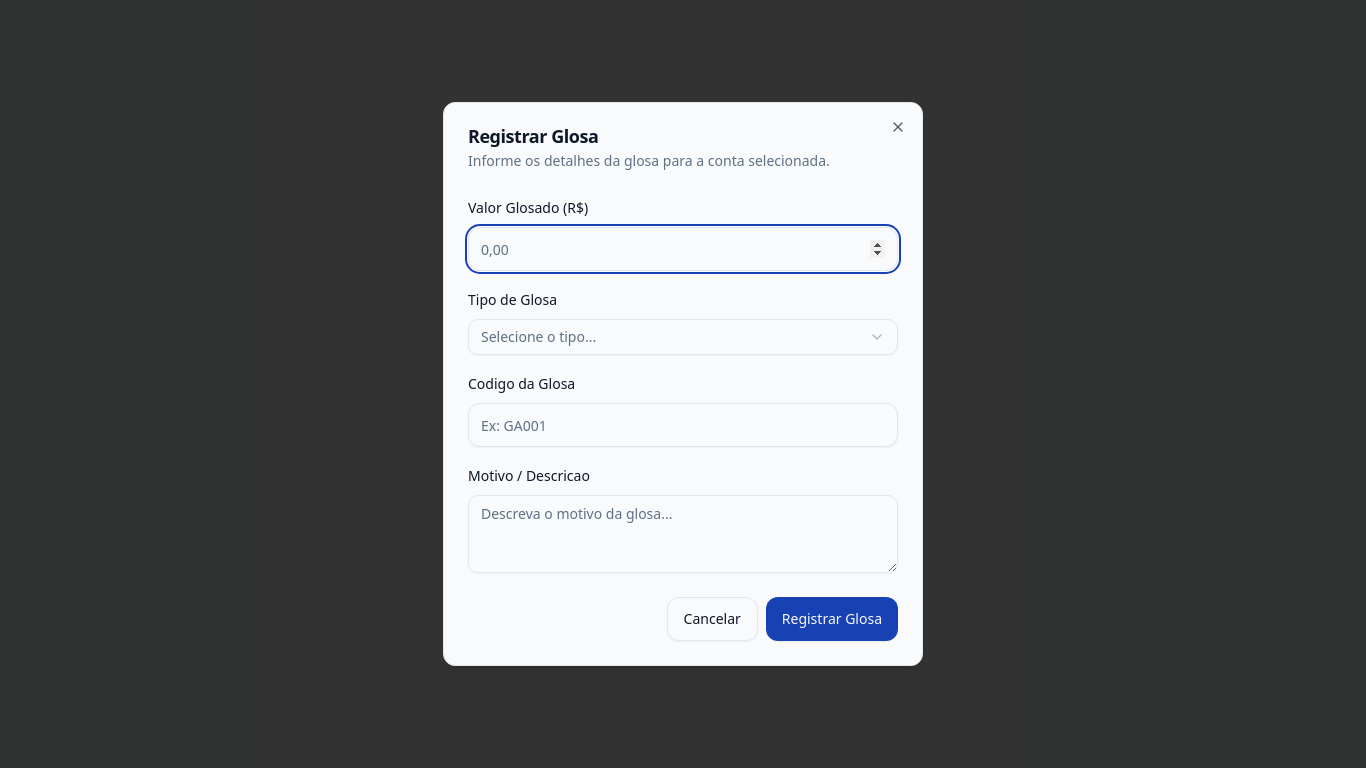
Test: CreateGlosaModal › shows error on submission failure
In the number field labelled "Valor Glosado (R$)": point(683, 249) [468, 227, 898, 271], type "100"
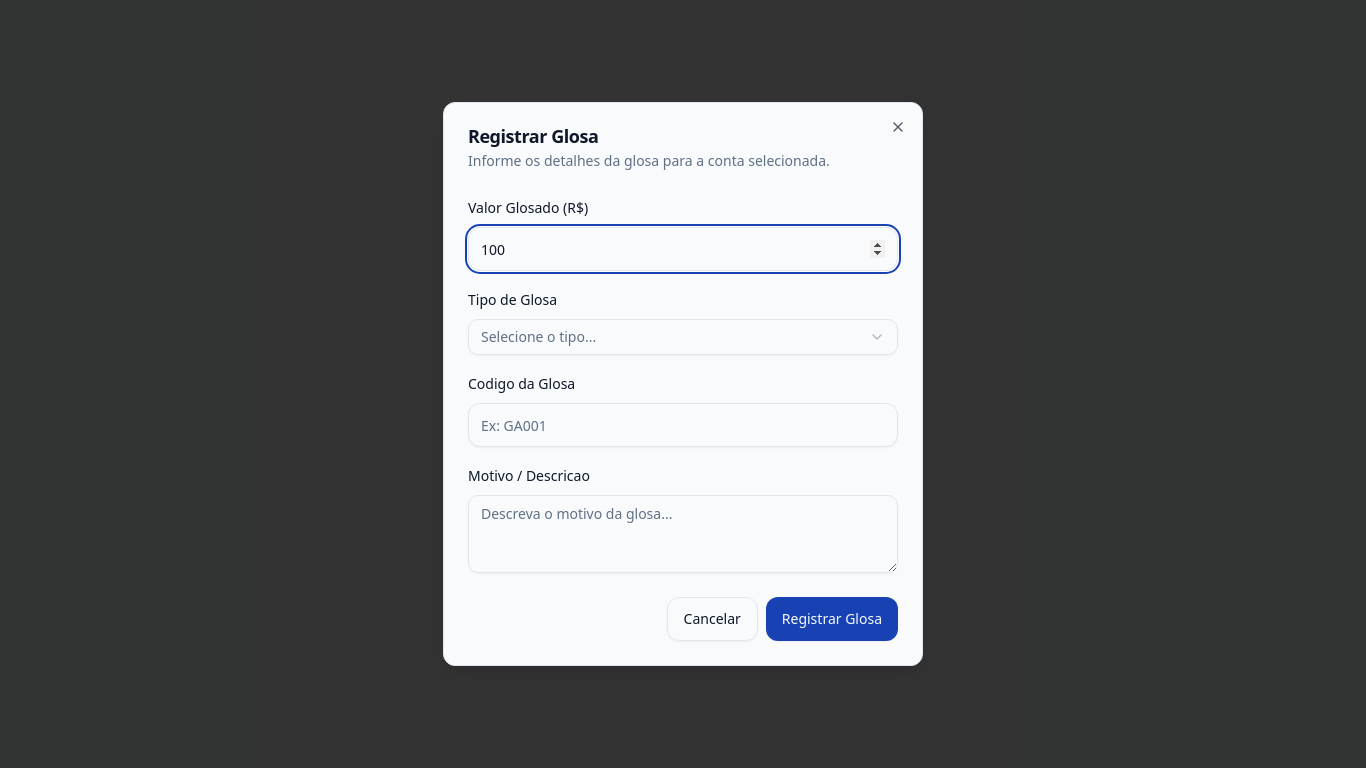
Click the dropdown: point(539, 336) [468, 319, 898, 355]
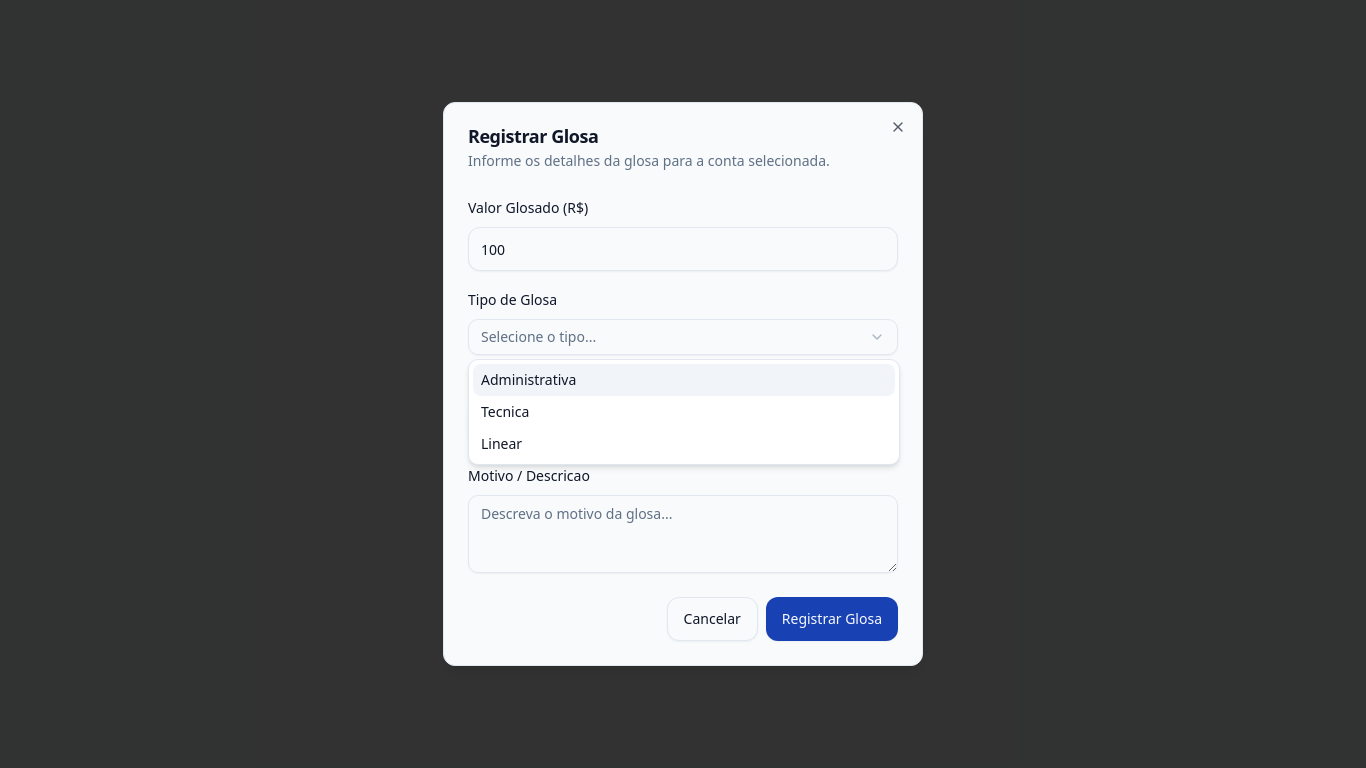
Click the option "Linear": point(502, 444) [481, 434, 522, 453]
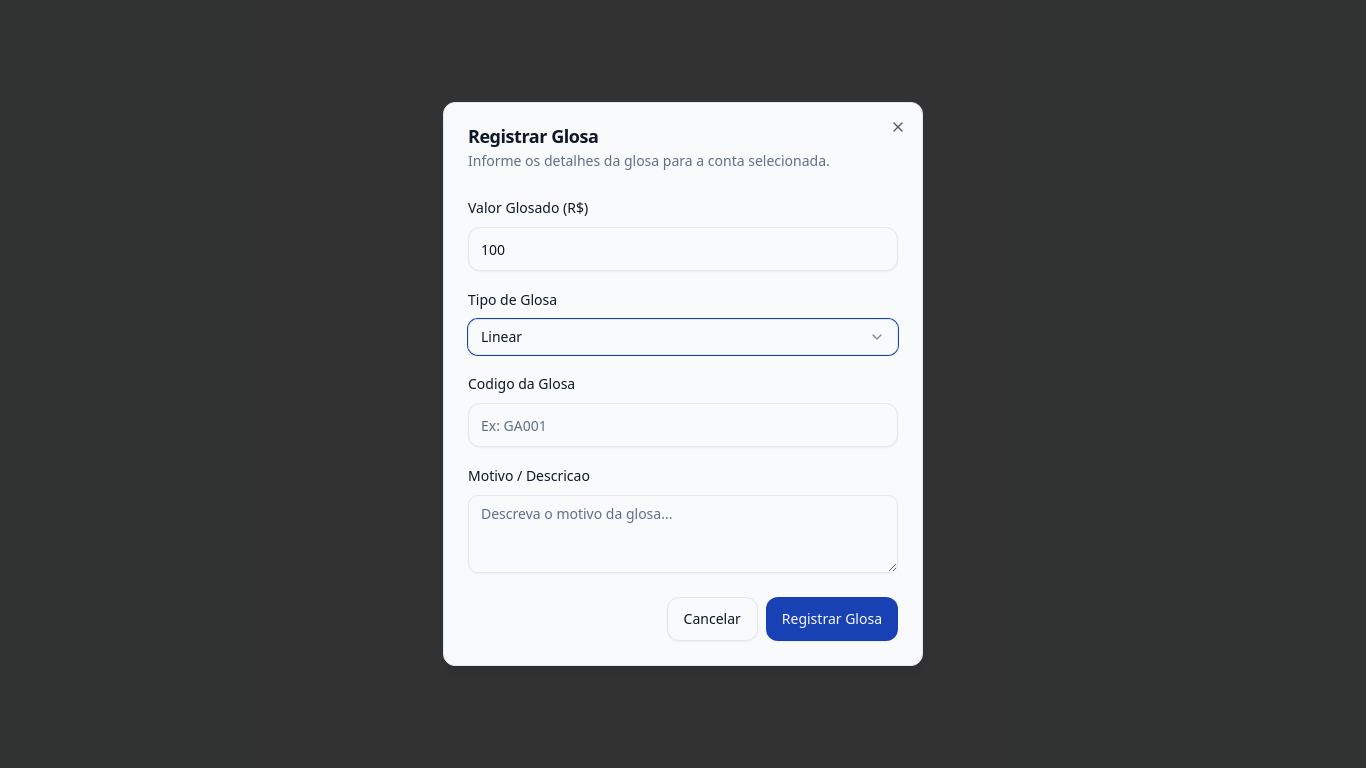
In the field labelled "Codigo da Glosa": point(683, 425) [468, 403, 898, 447], type "GL01"
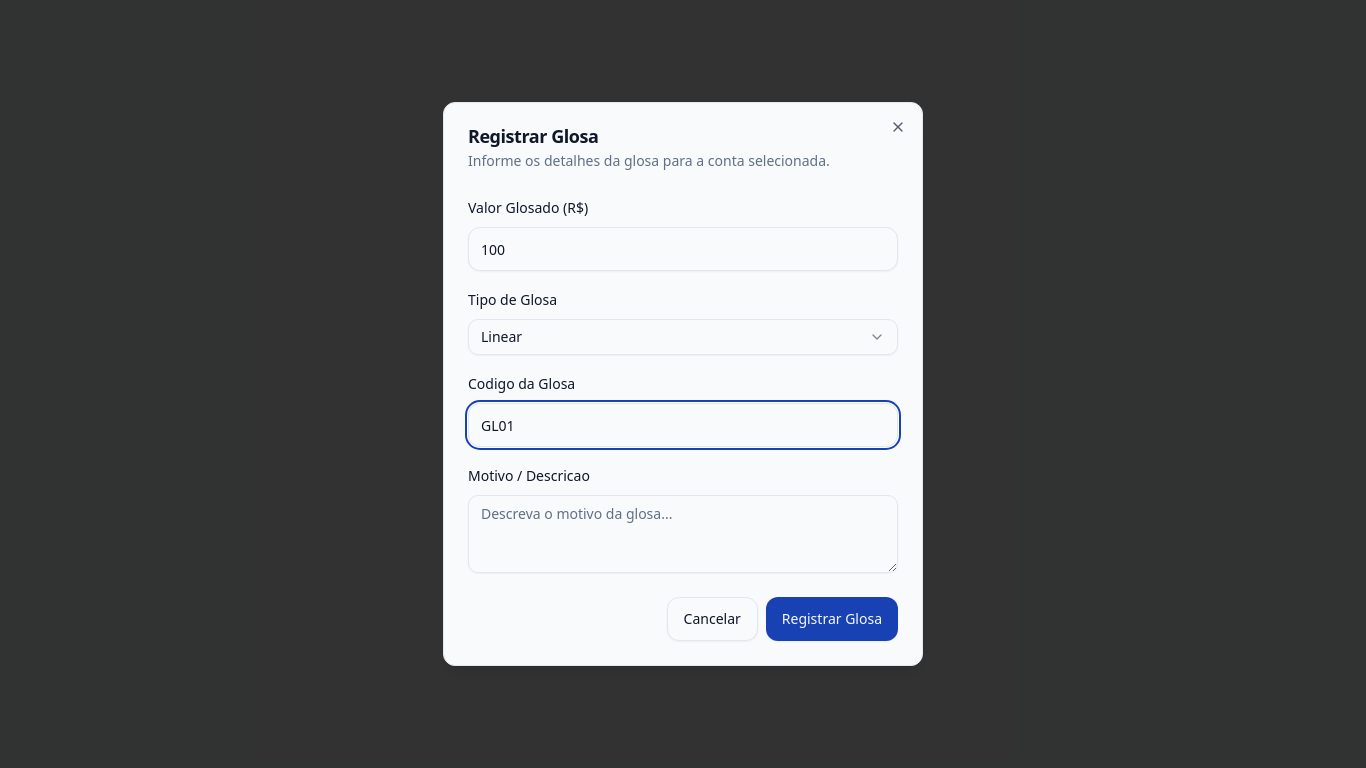
Click the button "Registrar Glosa": point(832, 619) [766, 597, 898, 641]
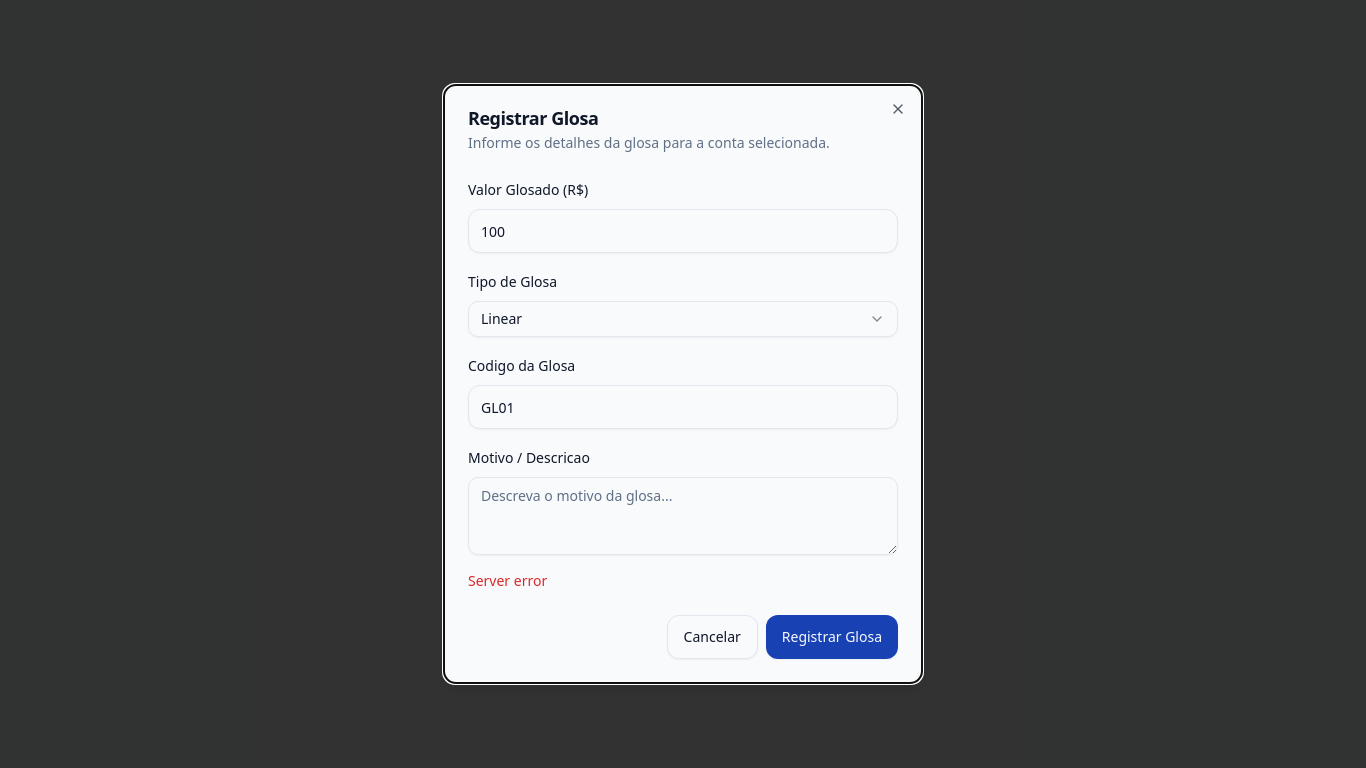
Expected: the text "Server error" is shown, [468, 571, 547, 590]
